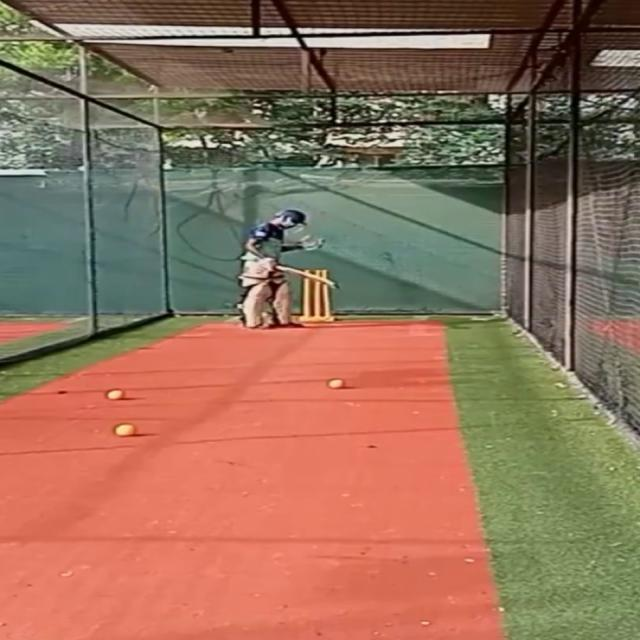ball: (115, 422, 141, 437), (102, 388, 129, 402), (326, 376, 345, 391)
stump: (300, 268, 334, 322)
